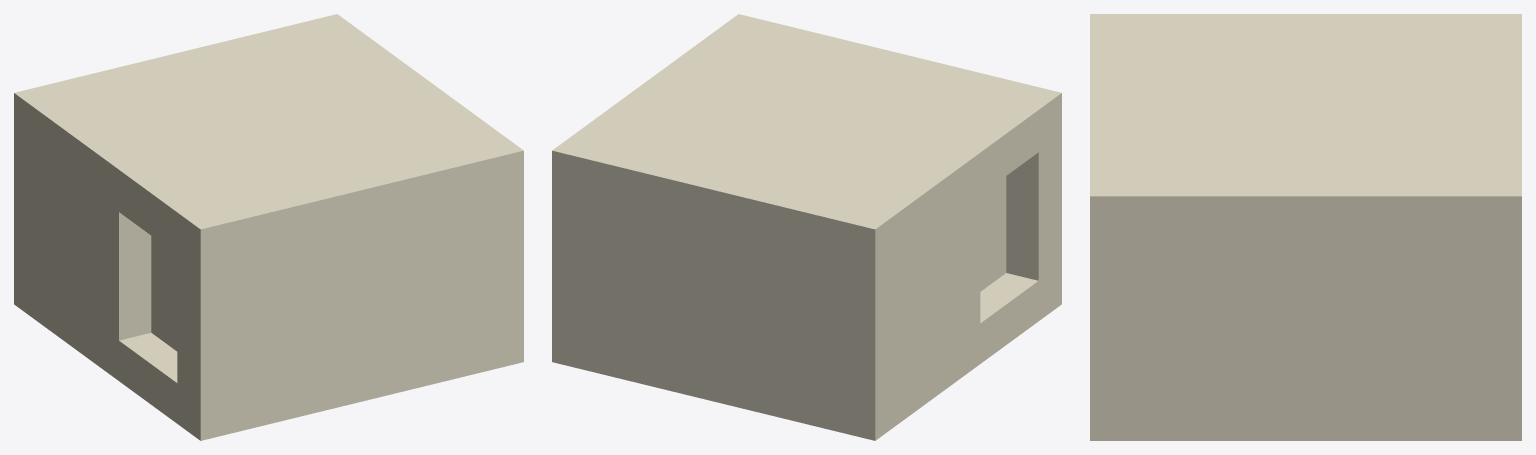
Rendered from modularbuildings_068.glb.
The picture shows the model from 3 angles, left to right: view 1: azimuth 30°, elevation 25°; view 2: azimuth 150°, elevation 25°; view 3: azimuth 270°, elevation 25°; orthographic projection. The views are drawn at different scales.
Visible parts, largest first — view 1: Mesh1 Group1 Model; view 2: Mesh1 Group1 Model; view 3: Mesh1 Group1 Model.
Boxes of the visible parts, x1,y1,x2,y2 form: Mesh1 Group1 Model: [14, 14, 523, 440]; Mesh1 Group1 Model: [552, 14, 1061, 440]; Mesh1 Group1 Model: [1090, 14, 1521, 440].
Size of the model in its own units: 1 by 0.625 by 1.
